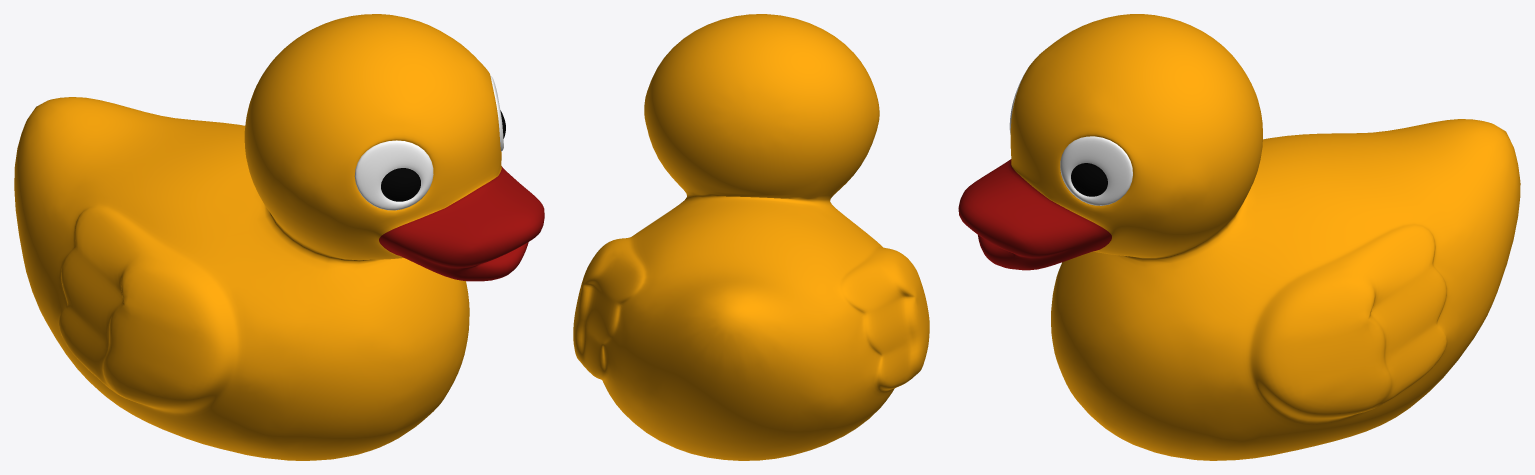
3 views of the same model, side by side, from view 1: azimuth 30°, elevation 25°; view 2: azimuth 150°, elevation 25°; view 3: azimuth 270°, elevation 25° (orthographic). The views are drawn at different scales.
Parts seen in each view (by area): view 1: duck_head; view 2: duck_head; view 3: duck_head.
Part boxes in pixels (box(x1,y1,x2,y2)): duck_head: box(14, 14, 544, 460); duck_head: box(573, 14, 929, 460); duck_head: box(958, 14, 1520, 460).
Size of the model in its own units: 25.98 by 35.28 by 29.37.
